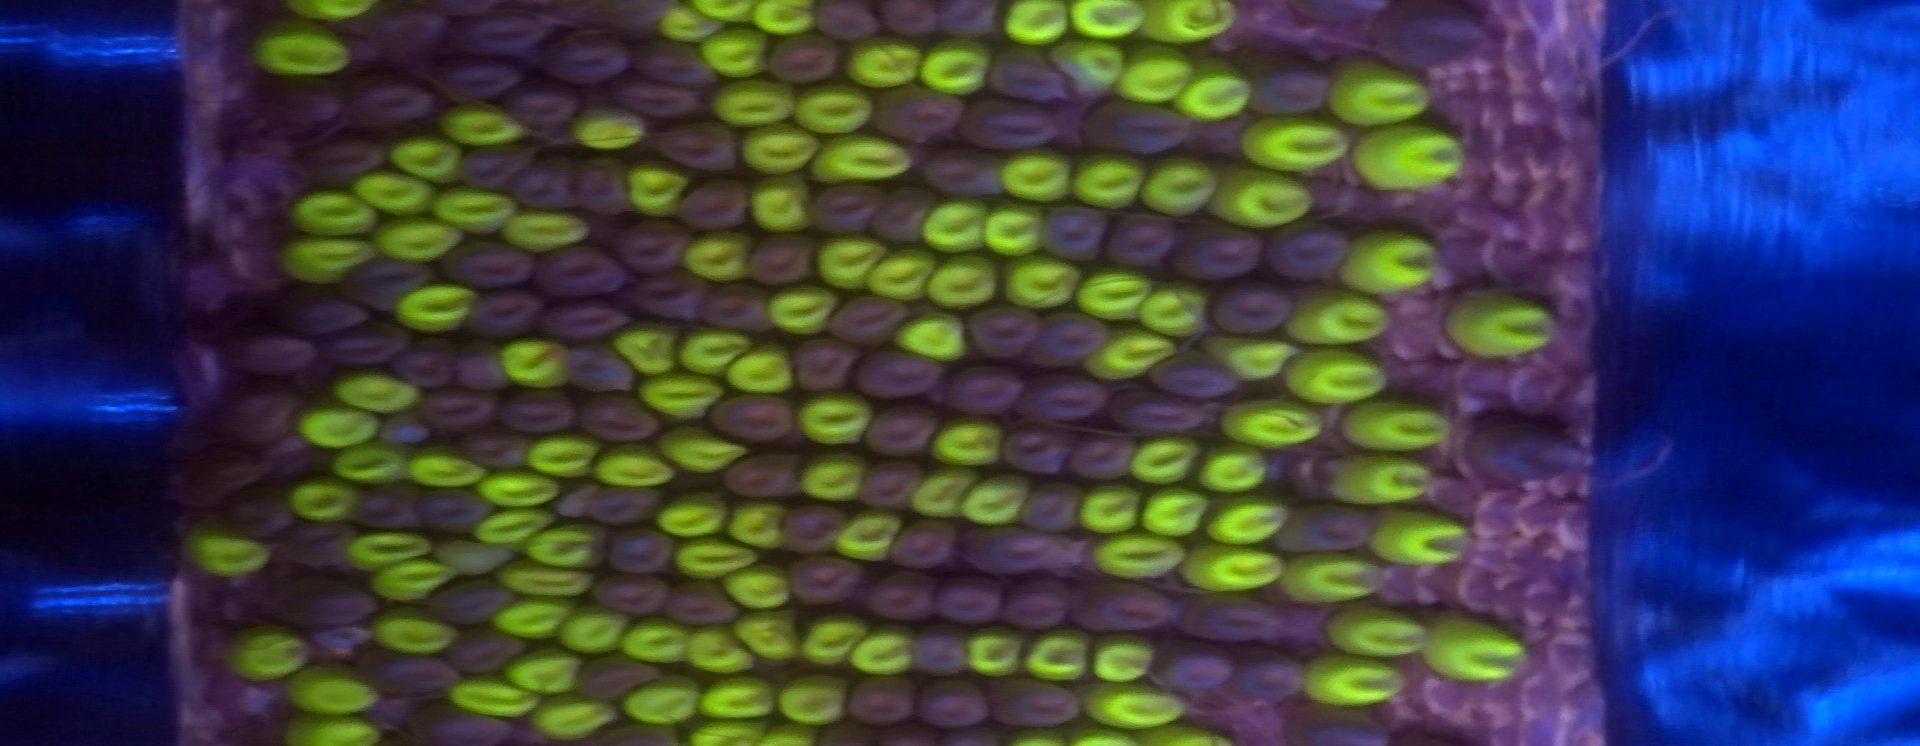fluorescent: (1425, 610, 1526, 684), (1349, 125, 1464, 184), (1446, 292, 1551, 355), (1325, 60, 1429, 119), (1218, 165, 1314, 229), (1342, 229, 1434, 295), (1282, 287, 1389, 343), (1371, 503, 1467, 563), (1240, 116, 1348, 169), (1288, 345, 1385, 403), (1324, 453, 1427, 505), (1177, 51, 1251, 121), (282, 659, 376, 714), (256, 23, 348, 78), (1344, 402, 1450, 450), (1284, 554, 1385, 603), (1331, 608, 1425, 659), (1116, 45, 1191, 109), (1142, 151, 1216, 216), (224, 626, 309, 682), (1305, 653, 1402, 702), (1184, 544, 1291, 588), (1084, 680, 1182, 728), (811, 135, 907, 183), (1089, 330, 1173, 382), (1209, 491, 1286, 549), (661, 420, 747, 472), (795, 82, 871, 140), (1071, 154, 1149, 211), (1140, 486, 1209, 549), (527, 516, 604, 571), (396, 283, 478, 334), (593, 437, 672, 490), (998, 255, 1078, 307), (931, 254, 1007, 307), (332, 366, 420, 412), (372, 217, 458, 263), (708, 82, 793, 129), (1224, 402, 1320, 443), (615, 318, 681, 379), (842, 36, 917, 88), (1003, 148, 1071, 205), (389, 132, 464, 184), (283, 238, 372, 281), (1146, 1, 1236, 44), (431, 191, 516, 236), (816, 232, 877, 294), (1059, 38, 1125, 96), (869, 246, 937, 303), (354, 169, 431, 218), (531, 695, 620, 737), (1078, 265, 1149, 317), (623, 675, 700, 723), (984, 201, 1044, 262), (640, 372, 722, 416), (800, 396, 869, 447), (920, 40, 986, 94), (898, 314, 970, 363), (1142, 282, 1204, 339), (836, 510, 899, 566), (295, 195, 377, 238), (1098, 537, 1185, 577), (742, 127, 816, 175), (928, 420, 1003, 467), (560, 604, 624, 657), (451, 677, 535, 718), (737, 610, 803, 661), (507, 650, 579, 697), (438, 100, 517, 143), (729, 345, 797, 394), (801, 453, 864, 506), (999, 1, 1073, 47), (370, 616, 460, 653), (336, 441, 415, 483), (300, 407, 377, 450), (501, 559, 588, 597), (924, 201, 987, 254), (779, 677, 849, 724), (749, 176, 806, 234), (1026, 631, 1092, 680), (677, 330, 748, 375), (498, 337, 566, 385), (961, 625, 1026, 674), (502, 211, 591, 246), (495, 601, 571, 643), (700, 676, 774, 719), (686, 232, 749, 281), (675, 534, 752, 575), (1070, 1, 1152, 39), (856, 621, 911, 677), (771, 288, 836, 336), (801, 614, 860, 666), (1076, 481, 1139, 530), (283, 710, 369, 746), (1198, 443, 1266, 488), (344, 530, 429, 566), (688, 628, 754, 674), (627, 163, 681, 218), (966, 483, 1033, 527), (195, 537, 266, 578), (527, 435, 598, 477), (480, 468, 557, 506), (627, 619, 689, 665), (913, 465, 969, 518), (372, 563, 451, 599), (1092, 632, 1146, 684), (571, 111, 644, 148), (660, 497, 729, 537), (440, 534, 514, 570), (411, 446, 480, 484), (1131, 439, 1201, 475), (476, 510, 551, 544), (710, 29, 763, 76), (295, 478, 349, 522), (756, 1, 819, 37), (664, 10, 719, 47)
nonfluorescent: (1371, 5, 1480, 76), (1468, 415, 1580, 480), (959, 92, 1063, 153), (869, 85, 962, 145), (1082, 102, 1179, 158), (959, 523, 1063, 575), (1245, 53, 1330, 114), (1073, 583, 1173, 635), (535, 241, 627, 296), (648, 118, 737, 173), (1171, 225, 1264, 278), (1176, 595, 1281, 642), (1276, 503, 1373, 554), (273, 579, 377, 626), (707, 390, 796, 443), (1151, 639, 1238, 695), (912, 145, 1003, 197), (853, 352, 944, 403), (262, 76, 338, 137), (347, 254, 432, 307), (822, 292, 905, 347), (915, 676, 998, 730), (1234, 646, 1311, 703), (307, 125, 383, 183), (1109, 383, 1202, 430), (280, 284, 369, 333), (468, 289, 551, 341), (547, 31, 626, 85), (989, 680, 1080, 726), (220, 332, 318, 375), (557, 343, 638, 394), (860, 405, 937, 459), (411, 703, 508, 746), (1213, 278, 1292, 331), (223, 488, 302, 539), (786, 555, 860, 610), (1272, 222, 1342, 279), (615, 218, 691, 271), (342, 77, 427, 124), (222, 392, 294, 447), (997, 429, 1080, 477), (947, 365, 1024, 416), (1024, 372, 1101, 424), (1035, 205, 1104, 261), (1151, 352, 1231, 401), (634, 269, 707, 323), (538, 303, 639, 341), (491, 388, 578, 432), (446, 243, 538, 284), (1040, 309, 1106, 366), (1002, 575, 1070, 630), (326, 321, 407, 367), (373, 9, 444, 61), (407, 390, 493, 432), (396, 334, 462, 391), (748, 232, 814, 287), (996, 42, 1059, 98), (684, 176, 749, 232), (617, 77, 698, 121), (576, 396, 658, 439), (433, 56, 513, 100), (556, 1, 675, 31), (467, 11, 541, 58), (975, 306, 1038, 360), (869, 571, 940, 619), (572, 160, 629, 219), (771, 36, 839, 86), (1107, 209, 1167, 266), (792, 339, 853, 394), (874, 187, 931, 246), (576, 653, 660, 692), (631, 39, 708, 82), (893, 514, 954, 568), (349, 483, 425, 526), (454, 149, 538, 187), (940, 576, 1002, 627), (583, 486, 661, 526), (722, 454, 798, 495), (858, 459, 917, 511), (846, 679, 915, 723), (296, 622, 371, 663), (665, 582, 735, 625), (449, 627, 519, 670), (429, 579, 504, 619), (784, 507, 845, 555), (287, 521, 354, 563), (1020, 481, 1080, 529), (705, 282, 770, 326), (814, 183, 877, 228), (420, 488, 493, 526), (470, 428, 533, 472), (1071, 439, 1134, 483), (377, 659, 457, 693), (936, 2, 1003, 42), (598, 575, 665, 614), (912, 628, 967, 676), (813, 6, 882, 44), (453, 344, 504, 393), (520, 159, 576, 205), (509, 85, 571, 124), (612, 526, 666, 570), (878, 4, 945, 37), (369, 693, 414, 731)
